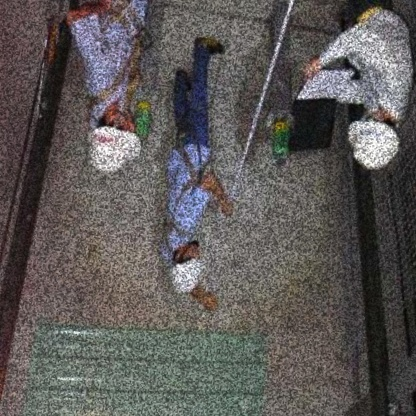white: (335, 107, 408, 179), (79, 120, 148, 183), (163, 254, 211, 303)
